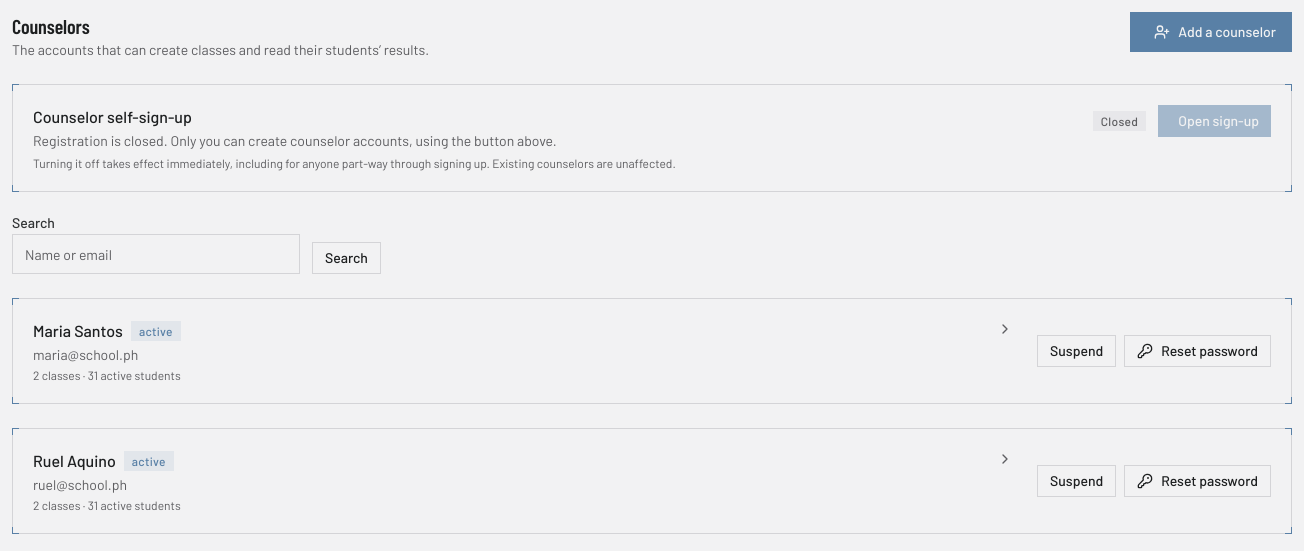
it: CounselorManagementPage — reset password › asks for confirmation instead of resetting on the first click
Click the button "Reset password" in the row of "maria@school.ph" at (1198, 351), box [1124, 335, 1271, 367]
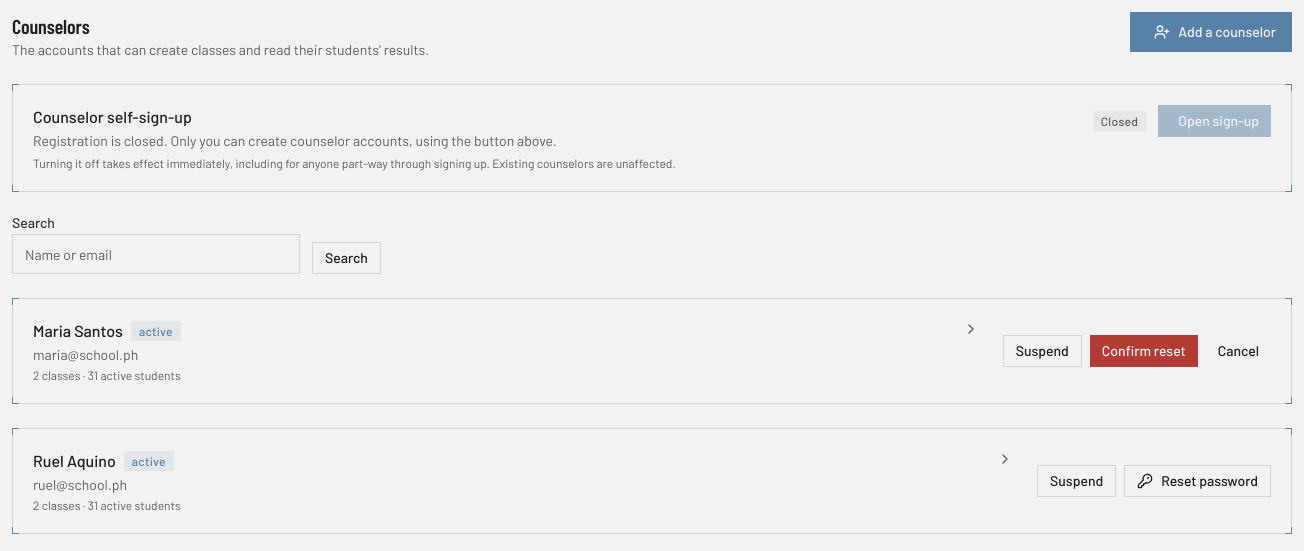
Now the button "Confirm reset" is shown, box [1090, 335, 1198, 367]
